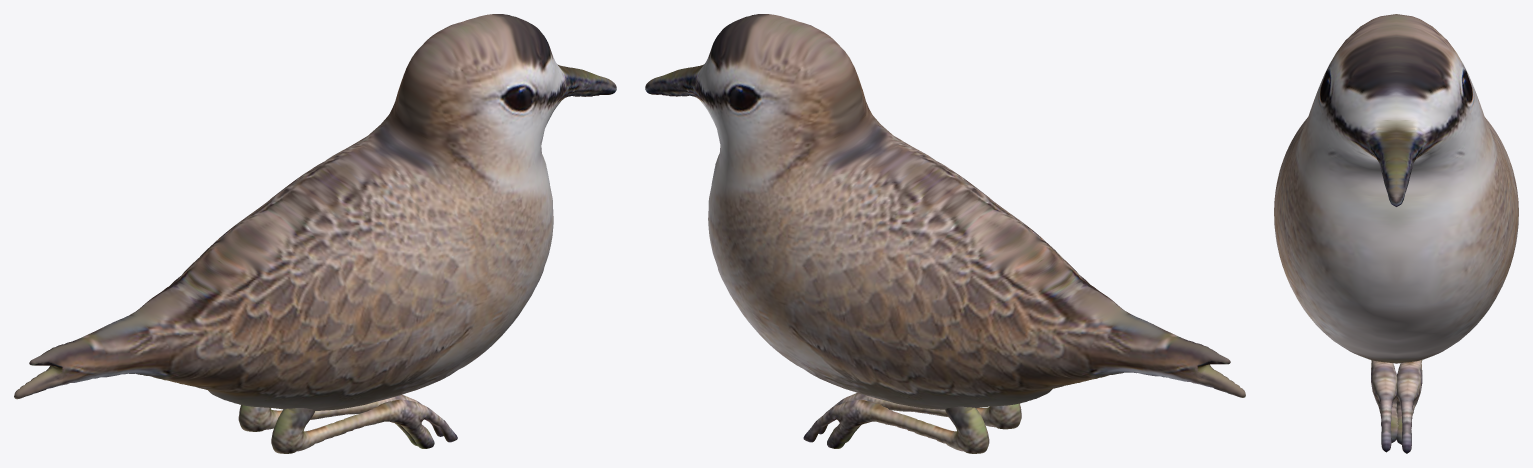
File: mountain-plover.glb
The picture shows the model from 3 angles, left to right: view 1: azimuth 30°, elevation 25°; view 2: azimuth 150°, elevation 25°; view 3: azimuth 270°, elevation 25°; orthographic projection. The views are drawn at different scales.
Parts seen in each view (by area): view 1: mm_frame (53); view 2: mm_frame (53); view 3: mm_frame (53).
Boxes of the visible parts, x1=… form: mm_frame (53): x1=14, y1=14, x2=616, y2=453; mm_frame (53): x1=645, y1=14, x2=1245, y2=453; mm_frame (53): x1=1274, y1=14, x2=1518, y2=453.
Size of the model in its own units: 7.39 by 4.83 by 2.39.
1 material, 1 textured.
